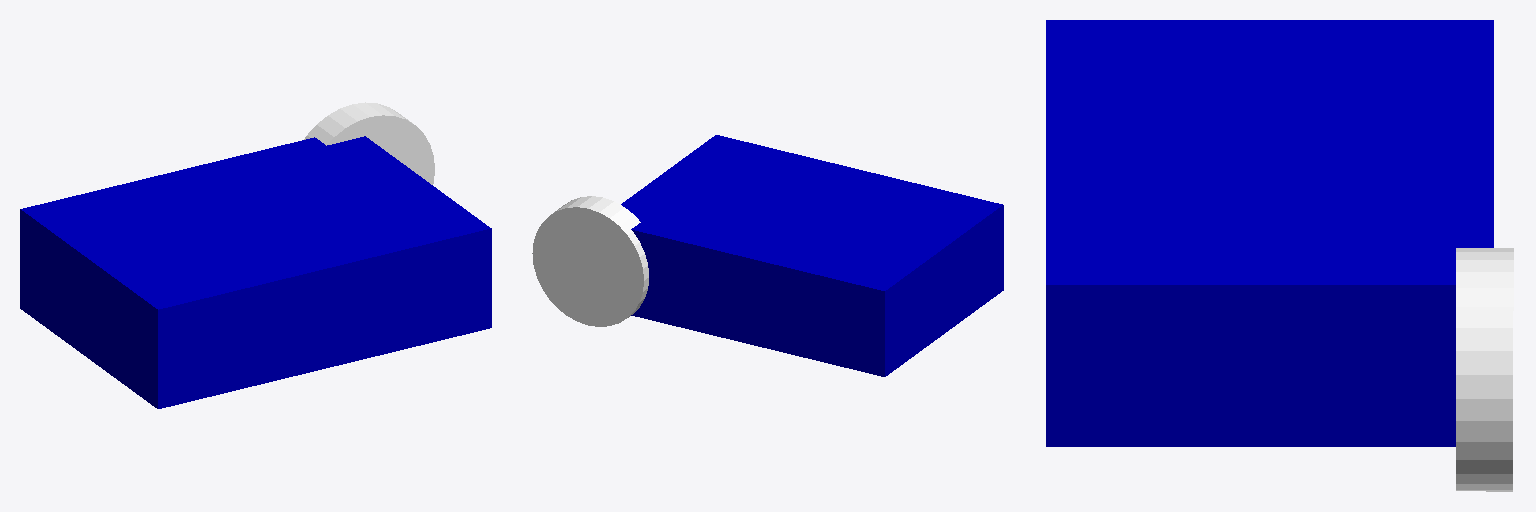
The robot description file, URDF, robot "primius":
<?xml version="1.0" ?>
<!-- =================================================================================== -->
<!-- |    This document was autogenerated by xacro from xacro/primius.urdf.xacro       | -->
<!-- |    EDITING THIS FILE BY HAND IS NOT RECOMMENDED                                 | -->
<!-- =================================================================================== -->
<robot name="primius">
  <material name="blue">
    <color rgba="0 0 0.8 1"/>
  </material>
  <material name="white">
    <color rgba="1 1 1 1"/>
  </material>
  <link name="base_link">
    <visual>
      <geometry>
        <box size="0.35 0.25 0.1"/>
      </geometry>
      <material name="blue"/>
    </visual>
  </link>
  <link name="wheel_front_right">
    <visual>
      <geometry>
        <cylinder length="0.032" radius="0.068"/>
      </geometry>
      <material name="white"/>
    </visual>
  </link>
  <joint name="base_link_wheel_front_right" type="continuous">
    <parent link="base_link"/>
    <child link="wheel_front_right"/>
    <origin rpy="1.57 0.0 0.0" xyz="0.18 0.12 0.0"/>
  </joint>
</robot>

--- Facts derived from the render (not from the file) ---
The picture shows the robot from 3 angles, left to right: view 1: azimuth 30°, elevation 25°; view 2: azimuth 150°, elevation 25°; view 3: azimuth 270°, elevation 25°; orthographic projection.
Model primius with 2 links and 1 joints (1 continuous), rooted at base_link, posed all joints at 0.
Links seen in each view (by area): view 1: base_link, wheel_front_right; view 2: base_link, wheel_front_right; view 3: base_link, wheel_front_right.
Boxes of the visible links, x1,y1,x2,y2 form: base_link: (20,136,491,408); wheel_front_right: (304,102,434,184); base_link: (621,135,1003,376); wheel_front_right: (532,196,648,326); base_link: (1046,20,1493,446); wheel_front_right: (1456,248,1513,491).
Size in the robot's own frame: 0.423 by 0.2611 by 0.136 metres.
Geometry: primitives only (box / cylinder / sphere), no mesh files.